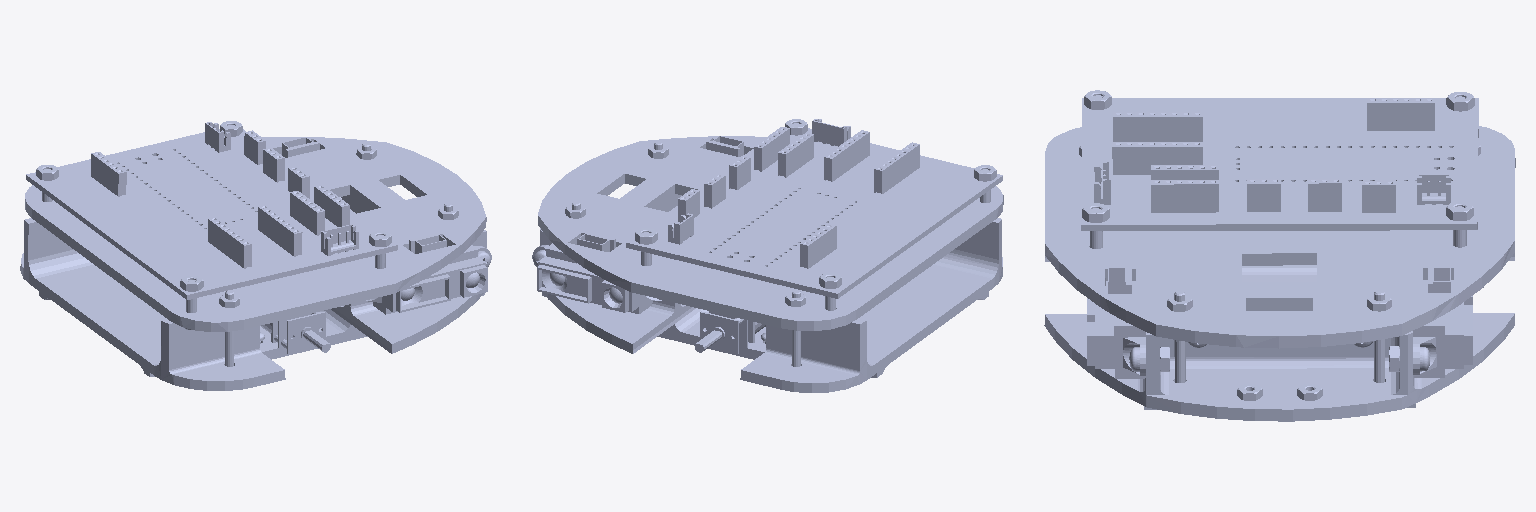
URDF robot description (taurus_description):
<?xml version="1.0" encoding="utf-8"?>
<!-- This URDF was automatically created by SolidWorks to URDF Exporter! Originally created by [author] ([email redacted]) 
     Commit Version: 1.6.0-4-g7f85cfe  Build Version: 1.6.7995.38578
     For more information, please see http://wiki.ros.org/sw_urdf_exporter -->
<robot
  name="taurus_description">
  <link
    name="base_link">
    <inertial>
      <origin
        xyz="0.003868358578296 -0.000158188357109068 0.0163891387106582"
        rpy="0 0 0" />
      <mass
        value="0.109739900930225" />
      <inertia
        ixx="6.20527220086167E-05"
        ixy="3.64237642737894E-07"
        ixz="-7.8808466840299E-07"
        iyy="8.58594312413681E-05"
        iyz="-9.68221357205741E-08"
        izz="0.000144845960814212" />
    </inertial>
    <visual>
      <origin
        xyz="0 0 0"
        rpy="0 0 0" />
      <geometry>
        <mesh
          filename="package://taurus_description/meshes/base_link.STL" />
      </geometry>
      <material
        name="">
        <color
          rgba="0.792156862745098 0.819607843137255 0.933333333333333 1" />
      </material>
    </visual>
    <collision>
      <origin
        xyz="0 0 0"
        rpy="0 0 0" />
      <geometry>
        <mesh
          filename="package://taurus_description/meshes/base_link.STL" />
      </geometry>
    </collision>
  </link>
  <link
    name="wheel_left_link">
    <inertial>
      <origin
        xyz="-2.0625E-05 -6.8524E-05 0.010935"
        rpy="0 0 0" />
      <mass
        value="0.010873" />
      <inertia
        ixx="1.1758E-06"
        ixy="4.9703E-11"
        ixz="-6.409E-10"
        iyy="1.1809E-06"
        iyz="-2.0189E-09"
        izz="1.5164E-06" />
    </inertial>
    <visual>
      <origin
        xyz="0 0 0"
        rpy="0 0 0" />
      <geometry>
        <mesh
          filename="package://taurus_description/meshes/wheel_left_link.STL" />
      </geometry>
      <material
        name="">
        <color
          rgba="0.29804 0.29804 0.29804 1" />
      </material>
    </visual>
    <collision>
      <origin
        xyz="0 0 0"
        rpy="0 0 0" />
      <geometry>
        <mesh
          filename="package://taurus_description/meshes/wheel_left_link.STL" />
      </geometry>
    </collision>
  </link>
  <joint
    name="wheel_left_joint"
    type="continuous">
    <origin
      xyz="-0.0033479 0.03711 0.0080001"
      rpy="-1.5708 0 -0.0018302" />
    <parent
      link="base_link" />
    <child
      link="wheel_left_link" />
    <axis
      xyz="0 0 1" />
    <limit
      effort="100"
      velocity="100" />
    <dynamics
      damping="0.1"
      friction="0.1" />
  </joint>
  <link
    name="wheel_right_link">
    <inertial>
      <origin
        xyz="2.1073E-05 6.8519E-05 -0.010935"
        rpy="0 0 0" />
      <mass
        value="0.010873" />
      <inertia
        ixx="1.1758E-06"
        ixy="8.2212E-11"
        ixz="-6.551E-10"
        iyy="1.1809E-06"
        iyz="-2.0187E-09"
        izz="1.5164E-06" />
    </inertial>
    <visual>
      <origin
        xyz="0 0 0"
        rpy="0 0 0" />
      <geometry>
        <mesh
          filename="package://taurus_description/meshes/wheel_right_link.STL" />
      </geometry>
      <material
        name="">
        <color
          rgba="0.89804 0.91765 0.92941 1" />
      </material>
    </visual>
    <collision>
      <origin
        xyz="0 0 0"
        rpy="0 0 0" />
      <geometry>
        <mesh
          filename="package://taurus_description/meshes/wheel_right_link.STL" />
      </geometry>
    </collision>
  </link>
  <joint
    name="wheel_right_joint"
    type="continuous">
    <origin
      xyz="-0.0033372 -0.037239 0.0080194"
      rpy="-1.5708 0 -0.0018302" />
    <parent
      link="base_link" />
    <child
      link="wheel_right_link" />
    <axis
      xyz="0 0 1" />
    <limit
      effort="100"
      velocity="100" />
    <dynamics
      damping="0.1"
      friction="0.1" />
  </joint>
  <link
    name="caster_ball_link">
    <inertial>
      <origin
        xyz="0 1.3878E-17 0"
        rpy="0 0 0" />
      <mass
        value="0.00042116" />
      <inertia
        ixx="3.6426E-09"
        ixy="-1.7771E-26"
        ixz="5.0487E-26"
        iyy="3.6426E-09"
        iyz="9.6919E-27"
        izz="3.6426E-09" />
    </inertial>
    <visual>
      <origin
        xyz="0 0 0"
        rpy="0 0 0" />
      <geometry>
        <mesh
          filename="package://taurus_description/meshes/caster_ball_link.STL" />
      </geometry>
      <material
        name="">
        <color
          rgba="1 1 1 1" />
      </material>
    </visual>
    <collision>
      <origin
        xyz="0 0 0"
        rpy="0 0 0" />
      <geometry>
        <mesh
          filename="package://taurus_description/meshes/caster_ball_link.STL" />
      </geometry>
    </collision>
  </link>
  <joint
    name="caster_ball_joint"
    type="continuous">
    <origin
      xyz="0.057569 -4.6108E-05 -0.00046991"
      rpy="-1.5708 0 -0.0018302" />
    <parent
      link="base_link" />
    <child
      link="caster_ball_link" />
    <axis
      xyz="0 0 1" />
    <limit
      effort="100"
      velocity="100" />
    <dynamics
      damping="0.1"
      friction="0.1" />
  </joint>
  <link
    name="scan_link">
    <inertial>
      <origin
        xyz="0 0 0"
        rpy="0 0 0" />
      <mass
        value="0" />
      <inertia
        ixx="0"
        ixy="0"
        ixz="0"
        iyy="0"
        iyz="0"
        izz="0" />
    </inertial>
    <visual>
      <origin
        xyz="0 0 0"
        rpy="0 0 0" />
      <geometry>
        <mesh
          filename="package://taurus_description/meshes/scan_link.STL" />
      </geometry>
      <material
        name="">
        <color
          rgba="1 1 1 1" />
      </material>
    </visual>
    <collision>
      <origin
        xyz="0 0 0"
        rpy="0 0 0" />
      <geometry>
        <mesh
          filename="package://taurus_description/meshes/scan_link.STL" />
      </geometry>
    </collision>
  </link>
  <joint
    name="scan_joint"
    type="fixed">
    <origin
      xyz="0.040761 0.00011153 0.016498"
      rpy="0 0 -0.0018302" />
    <parent
      link="base_link" />
    <child
      link="scan_link" />
    <axis
      xyz="0 0 0" />
    <dynamics
      damping="0.1"
      friction="0.1" />
  </joint>
</robot>

--- Render facts (derived) ---
3 views of the same robot in one strip: view 1: azimuth 30°, elevation 25°; view 2: azimuth 150°, elevation 25°; view 3: azimuth 270°, elevation 25° (orthographic).
Model taurus_description with 5 links and 4 joints (3 continuous, 1 fixed), rooted at base_link, posed all joints at 0.
Visible links, largest first — view 1: base_link; view 2: base_link; view 3: base_link.
Link boxes in pixels (left/top/right/bottom): base_link: left=20, top=121, right=491, bottom=390; base_link: left=532, top=119, right=1003, bottom=392; base_link: left=1044, top=90, right=1515, bottom=421.
Bounding box of the posed robot: 0.1151 × 0.1062 × 0.0428 m (x, y, z).
Meshes: 5 distinct files referenced, 1 mesh visuals loaded (1 binary STL); not drawn: 4 (reference not matched to a file when rendering).